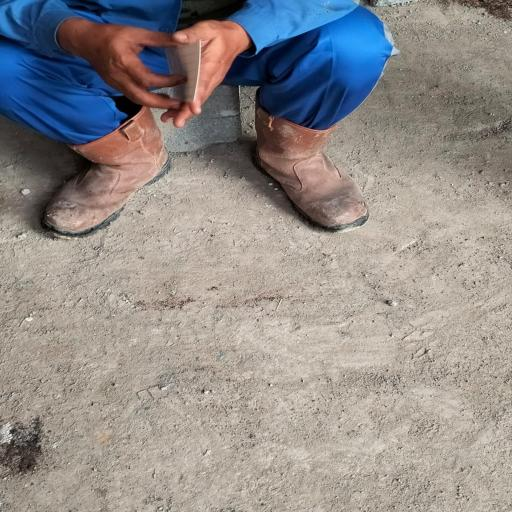safety_shoe: (21, 104, 182, 234), (237, 99, 375, 236)
